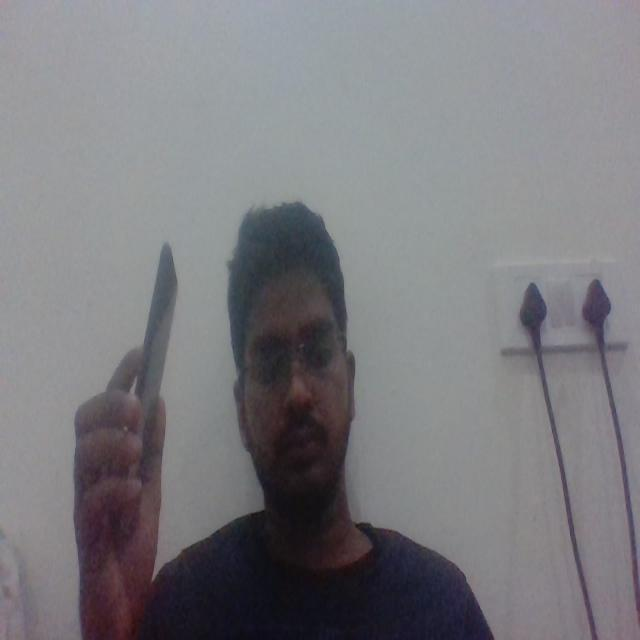Phone: (117, 234, 185, 484)
